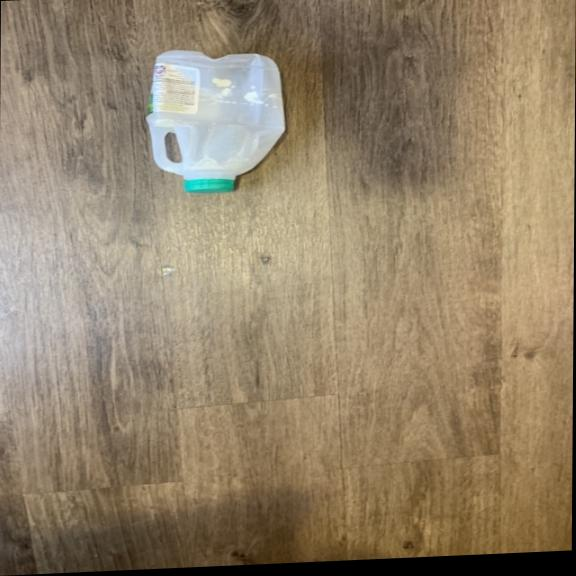Plastik: (130, 41, 290, 198)
